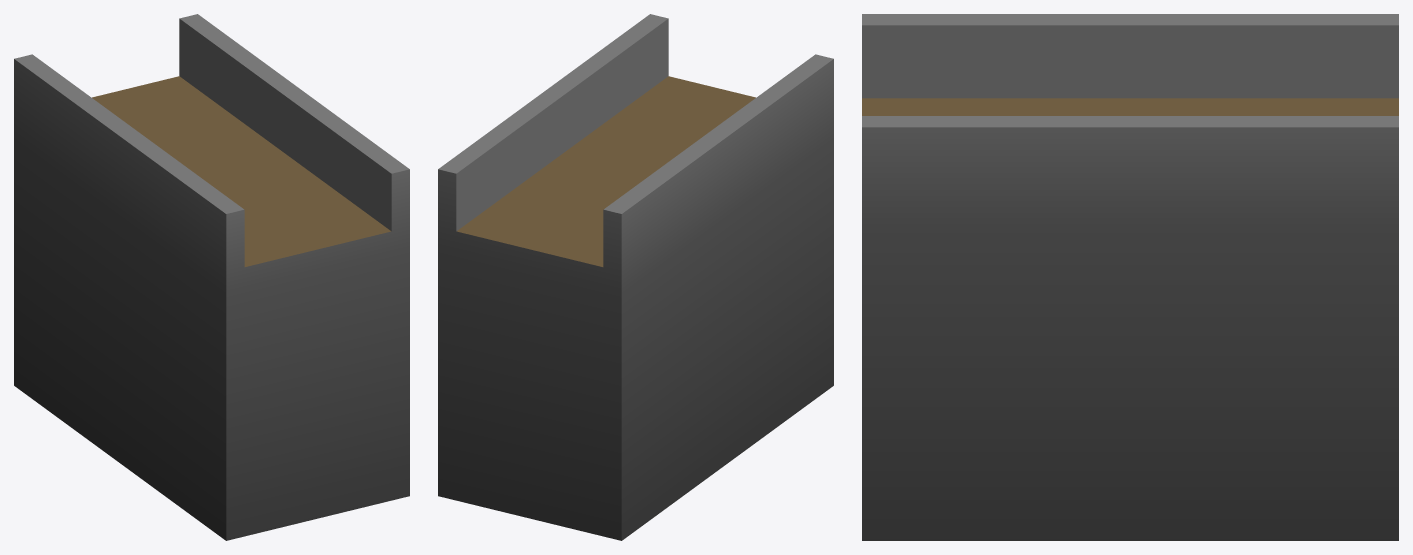
The model's file is sides.FBX.
The picture shows the model from 3 angles, left to right: view 1: azimuth 30°, elevation 25°; view 2: azimuth 150°, elevation 25°; view 3: azimuth 270°, elevation 25°; orthographic projection. The views are drawn at different scales.
Visible parts, largest first — view 1: Box004; view 2: Box004; view 3: Box004.
Boxes of the visible parts, x1,y1,x2,y2 form: Box004: (14,14,409,540); Box004: (438,14,833,540); Box004: (862,14,1398,540).
Size of the model in its own units: 50 by 85 by 100.
